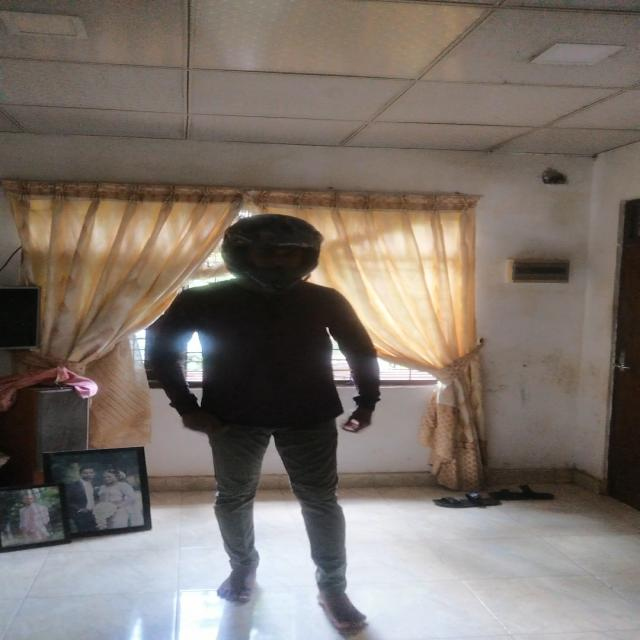Helmet_Wearer: (212, 212, 329, 290)
Person: (163, 214, 400, 628)
